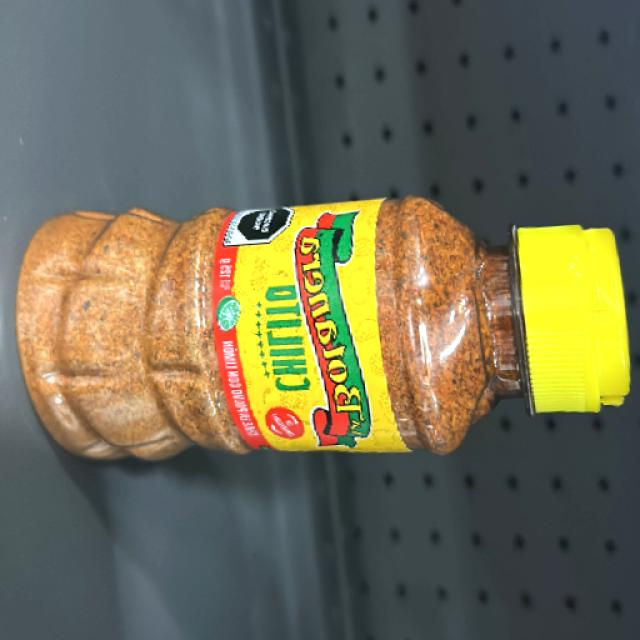botaneraChilito: (14, 207, 634, 459)
